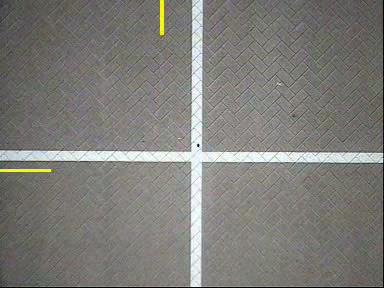groundmarker_2: (201, 6, 245, 59), (201, 180, 244, 233)
